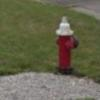a fire hydrant: (55, 15, 80, 72)
